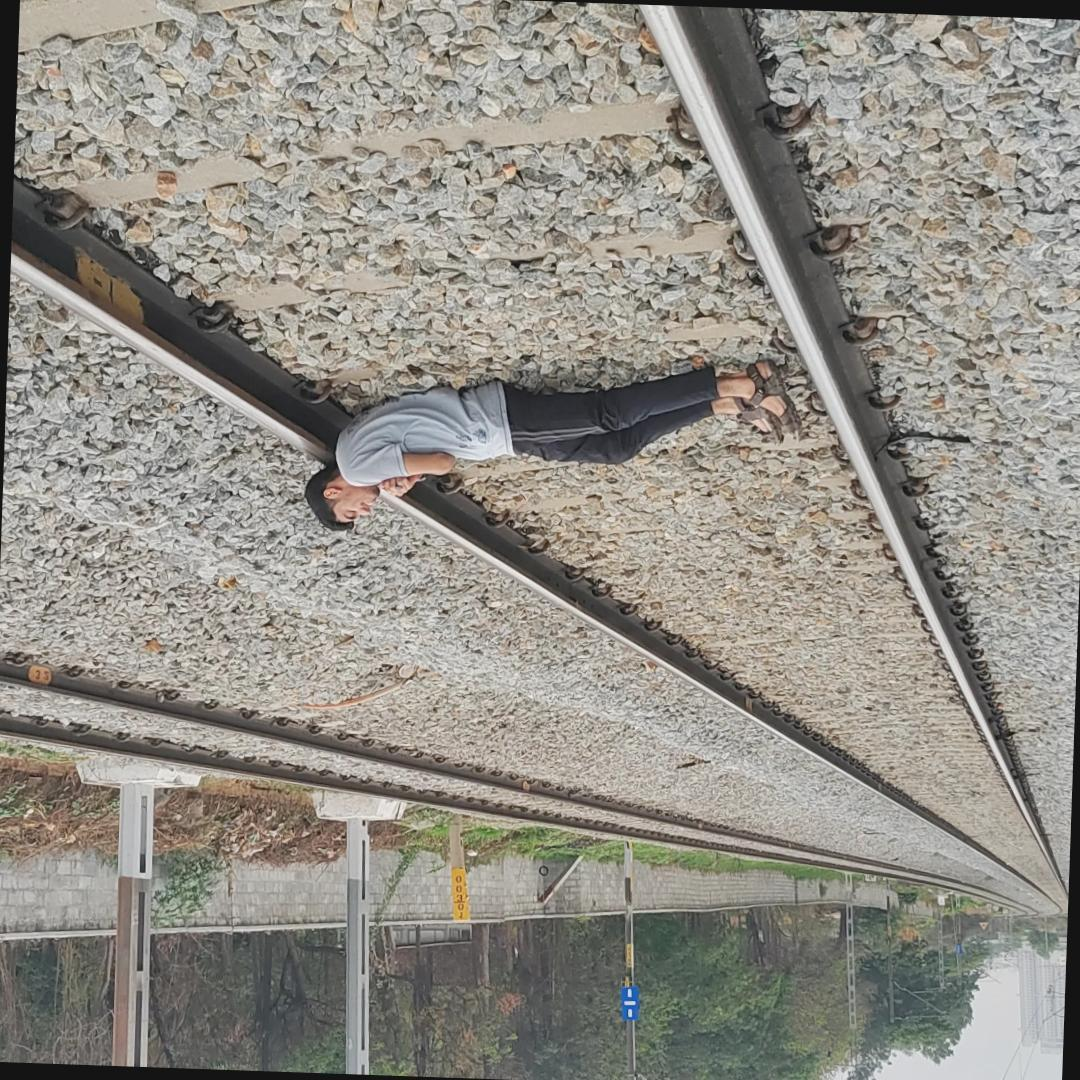sleeping: (278, 299, 814, 565)
track: (6, 0, 1069, 923)
